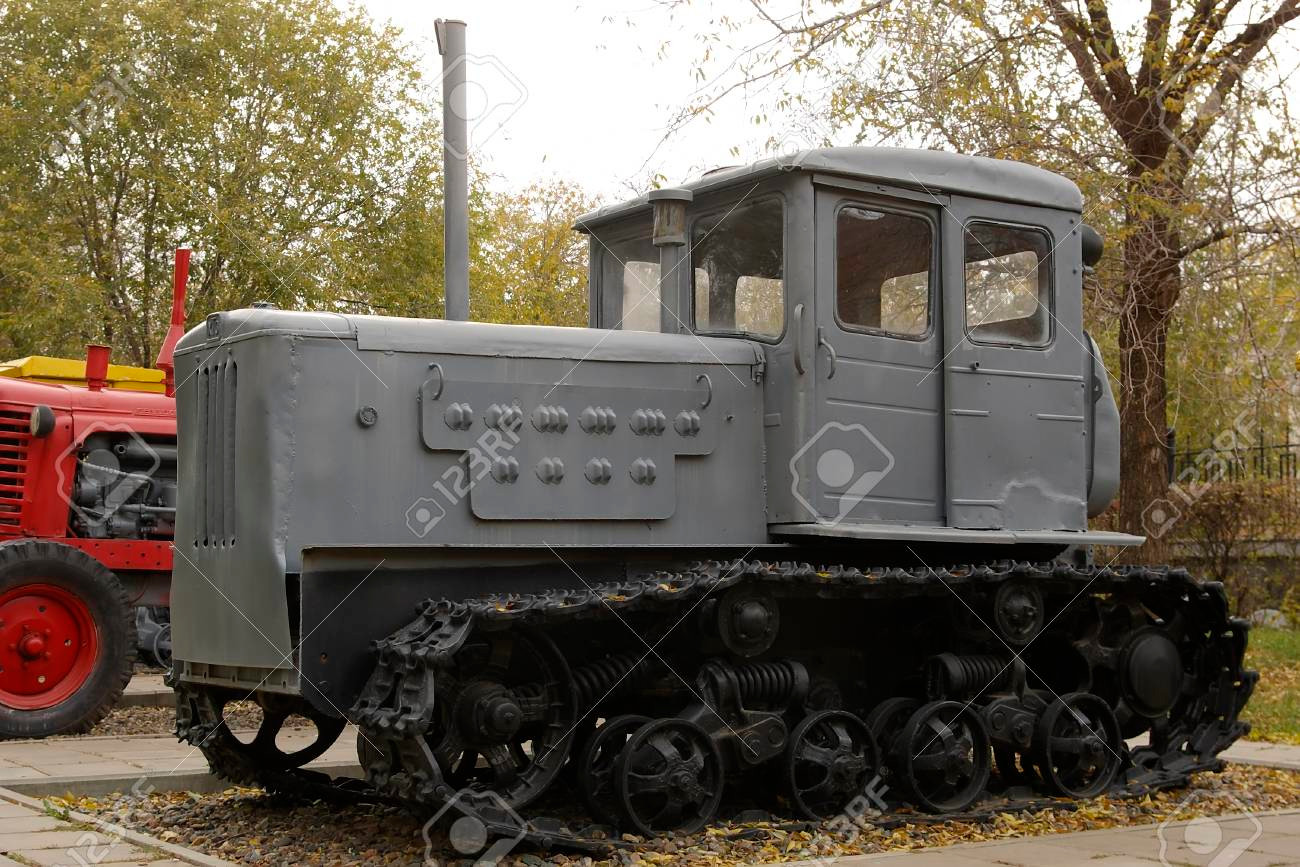tractor: (165, 26, 1256, 848)
